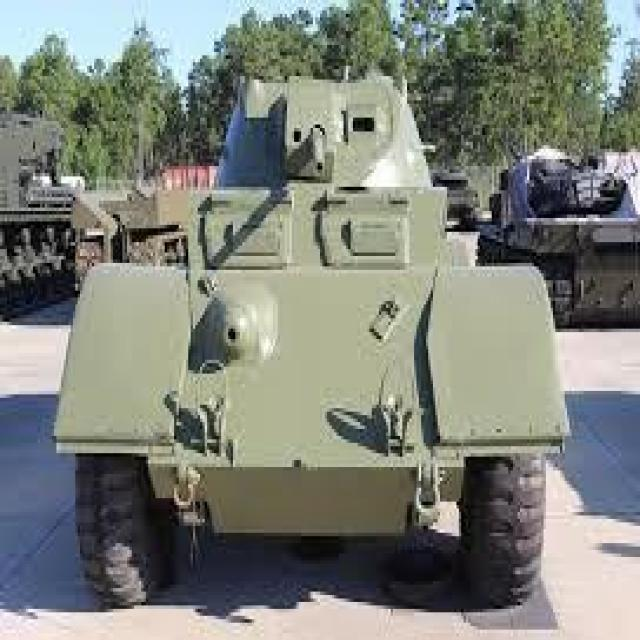Tanks: (67, 88, 564, 611), (510, 140, 634, 324), (2, 106, 70, 320)
